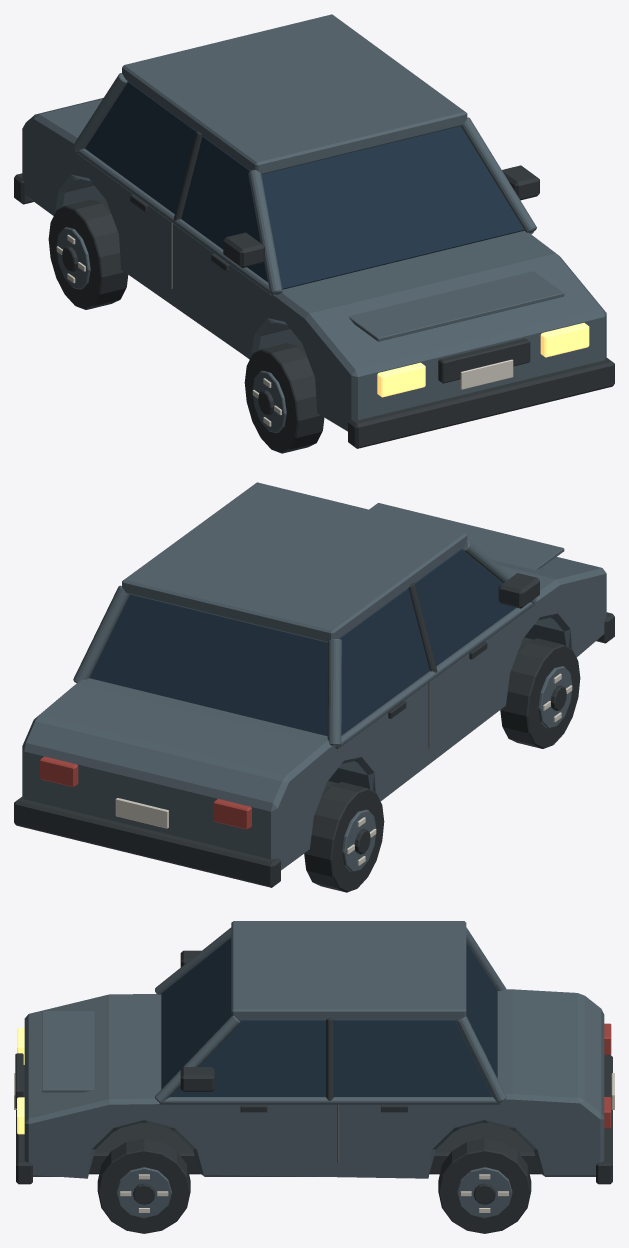
Rendered from vehicle_car_hatchback_model.glb.
The picture shows the model from 3 angles, top to bottom: view 1: azimuth 30°, elevation 25°; view 2: azimuth 150°, elevation 25°; view 3: azimuth 270°, elevation 25°; orthographic projection. The views are drawn at different scales.
Visible parts, largest first — view 1: BH_Car_Hatchback_01_RenderMesh, BH_Car_Hatchback_01_LightMesh; view 2: BH_Car_Hatchback_01_RenderMesh; view 3: BH_Car_Hatchback_01_RenderMesh, BH_Car_Hatchback_01_LightMesh.
Part boxes in pixels (x1=…): BH_Car_Hatchback_01_RenderMesh: x1=14, y1=14, x2=614, y2=453; BH_Car_Hatchback_01_LightMesh: x1=377, y1=323, x2=589, y2=397; BH_Car_Hatchback_01_RenderMesh: x1=14, y1=482, x2=614, y2=892; BH_Car_Hatchback_01_RenderMesh: x1=14, y1=921, x2=614, y2=1233; BH_Car_Hatchback_01_LightMesh: x1=17, y1=1028, x2=24, y2=1134.
Size of what is drawn, in the model's own units: 2.14 by 1.64 by 4.27.
